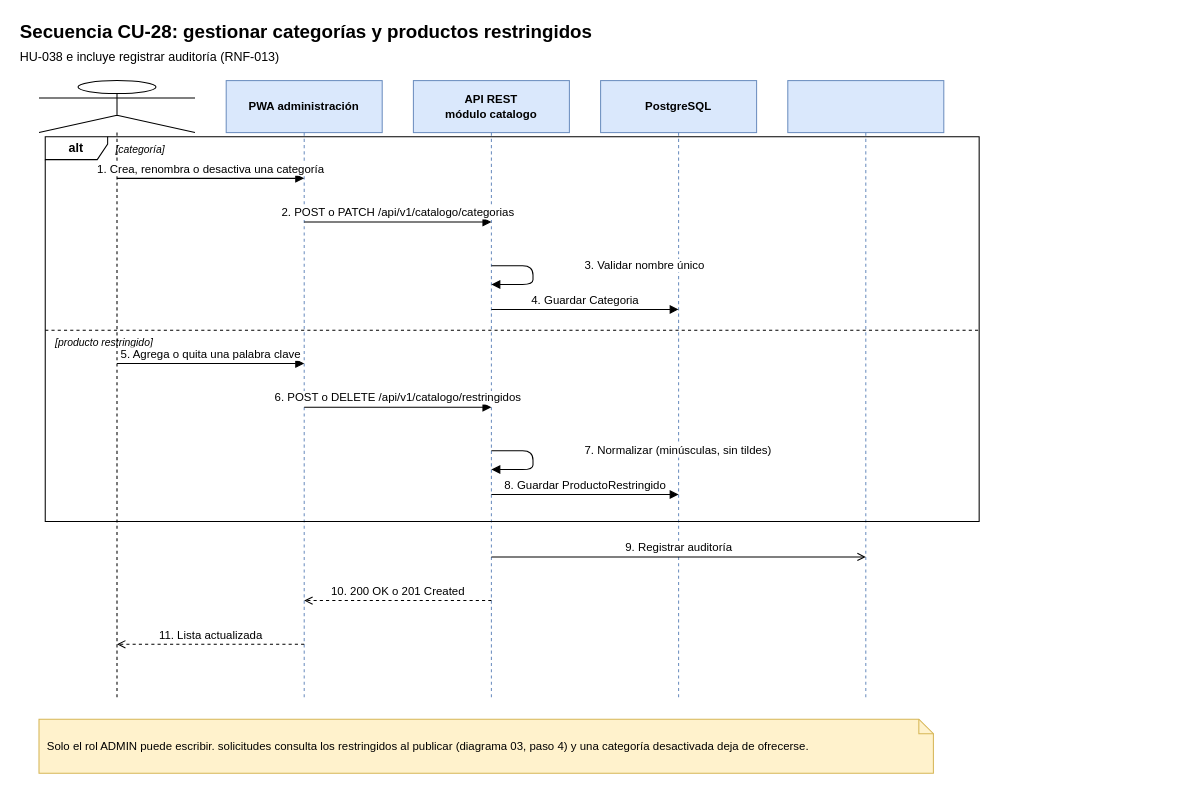
Image size: 1179x791. Some labels were removed from this diagram. The box of each missing label's shape, as (x1, y1, x2, y2) in pixels:
Administrador: (38, 80, 195, 698)
módulo administracion (fachada api): (787, 80, 944, 698)
